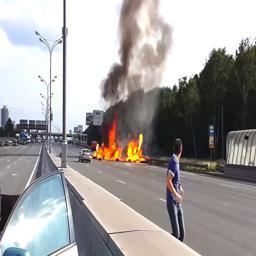fire: (91, 112, 147, 162)
